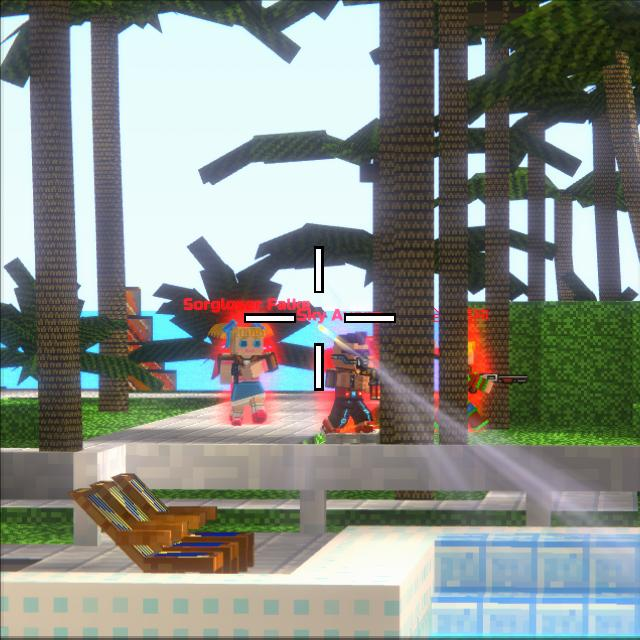Enemy: (217, 327, 279, 426), (320, 343, 380, 433), (468, 338, 490, 429)
